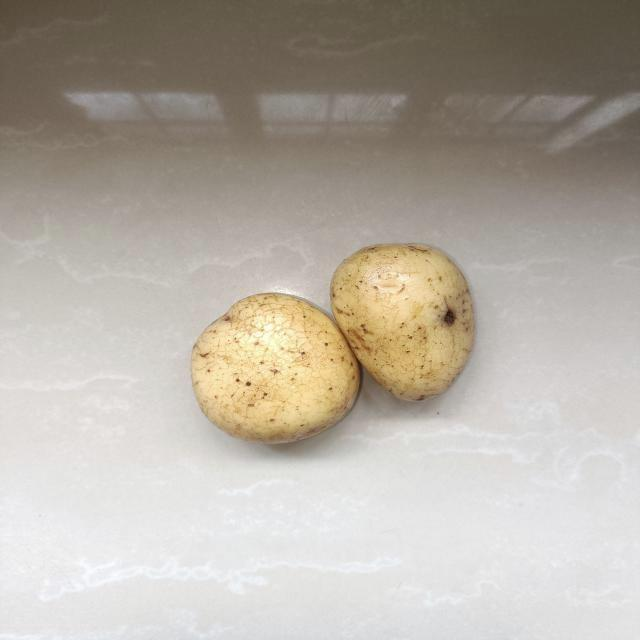potato: (184, 287, 364, 443), (328, 240, 481, 404)
